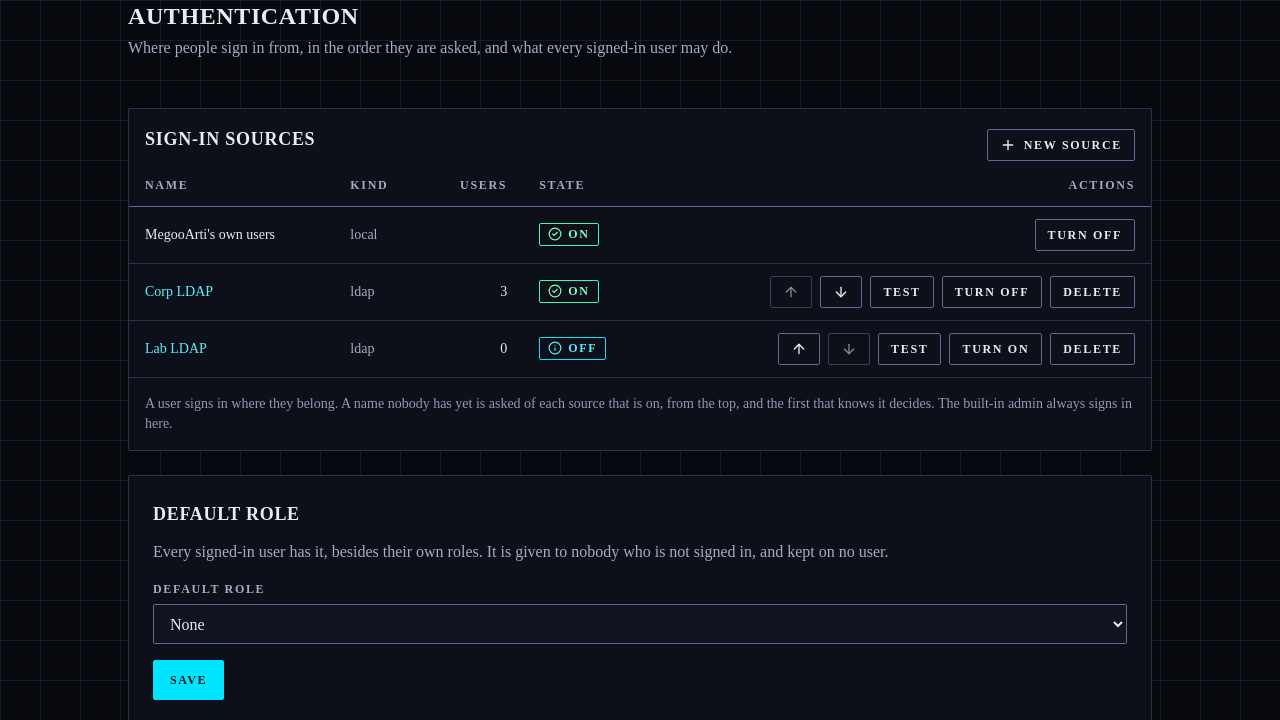
Test case: the sign-in sources (SEC-15) › are deleted only for whoever types the name, and say their users are kept
Click the button with aria-label "Delete Corp LDAP".
click(1093, 292)  # box [1050,276,1135,308]
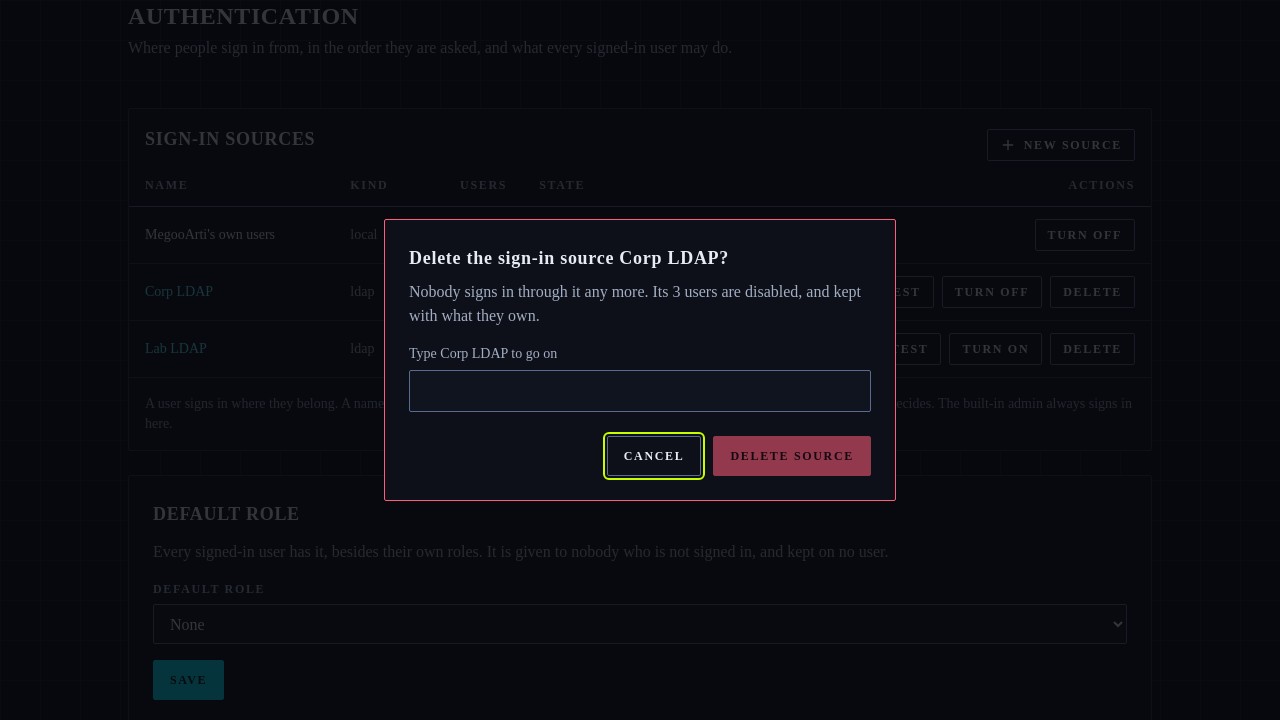
Now the dialog "Delete the sign-in source Corp LDAP?" shows "3 users are disabled, and kept with what they own.", box [409,283,861,324]
Now the button "Delete source" is disabled, box [714,436,871,476]
Type "Corp LDAP" into the field.
click(640, 391); type("Corp LDAP")  # box [409,370,871,412]
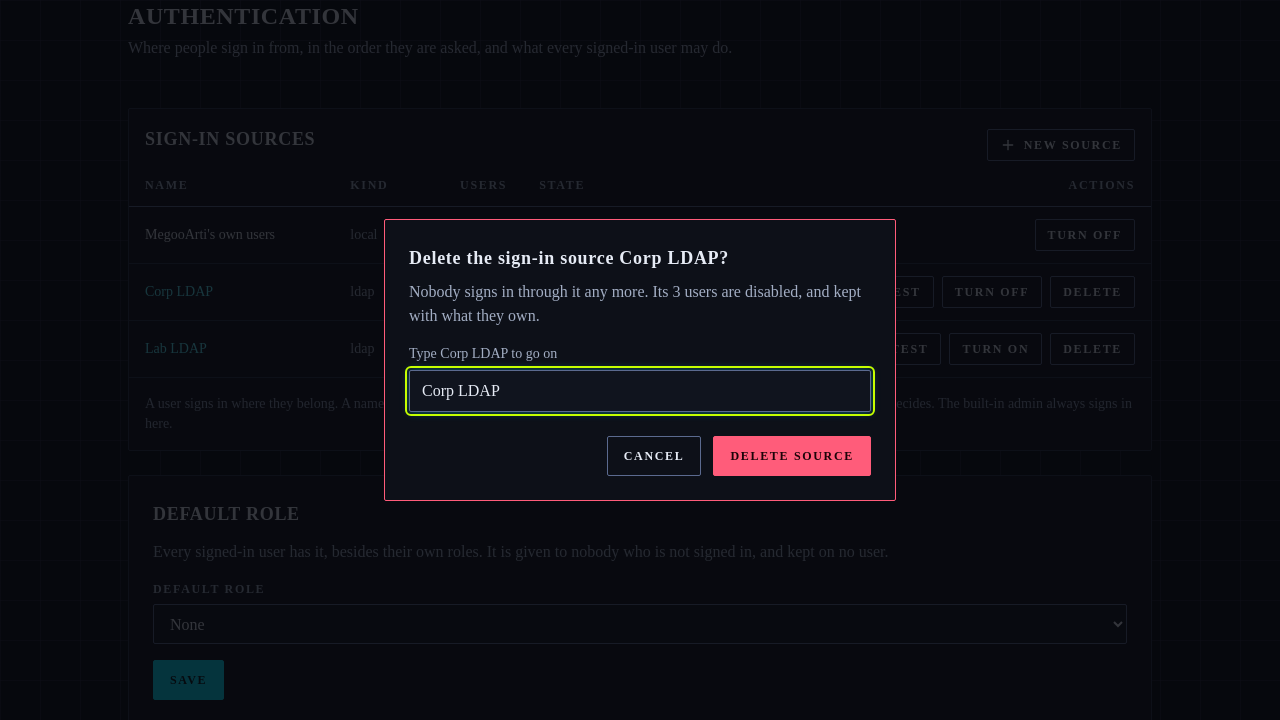
Click the button "Delete source".
click(792, 456)  # box [714,436,871,476]
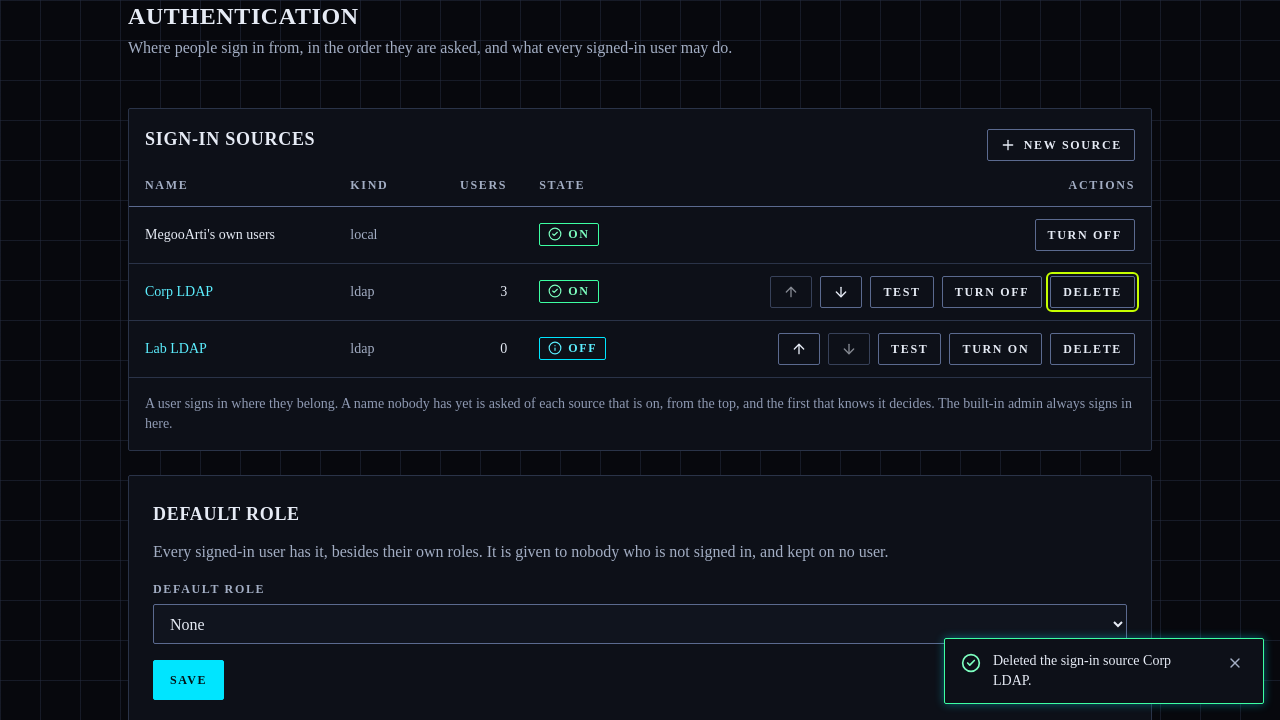
Now the element named "Notifications" reads "Deleted the sign-in source Corp LDAP.", box [993,653,1171,688]
